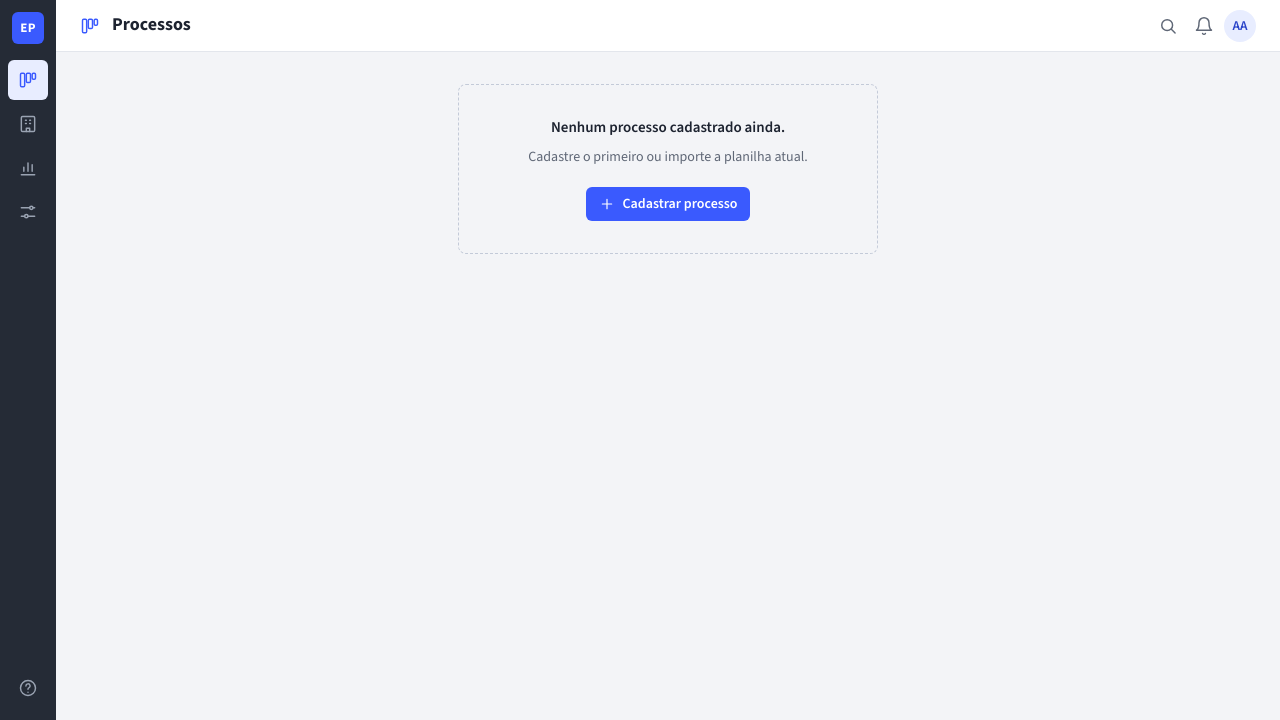
Test: antes da primeira tentativa, diz "Nenhuma atualização ainda."
The image size is (1280, 720).
Click the button named "Administração": click(28, 212) x1=8 y1=192 x2=48 y2=232
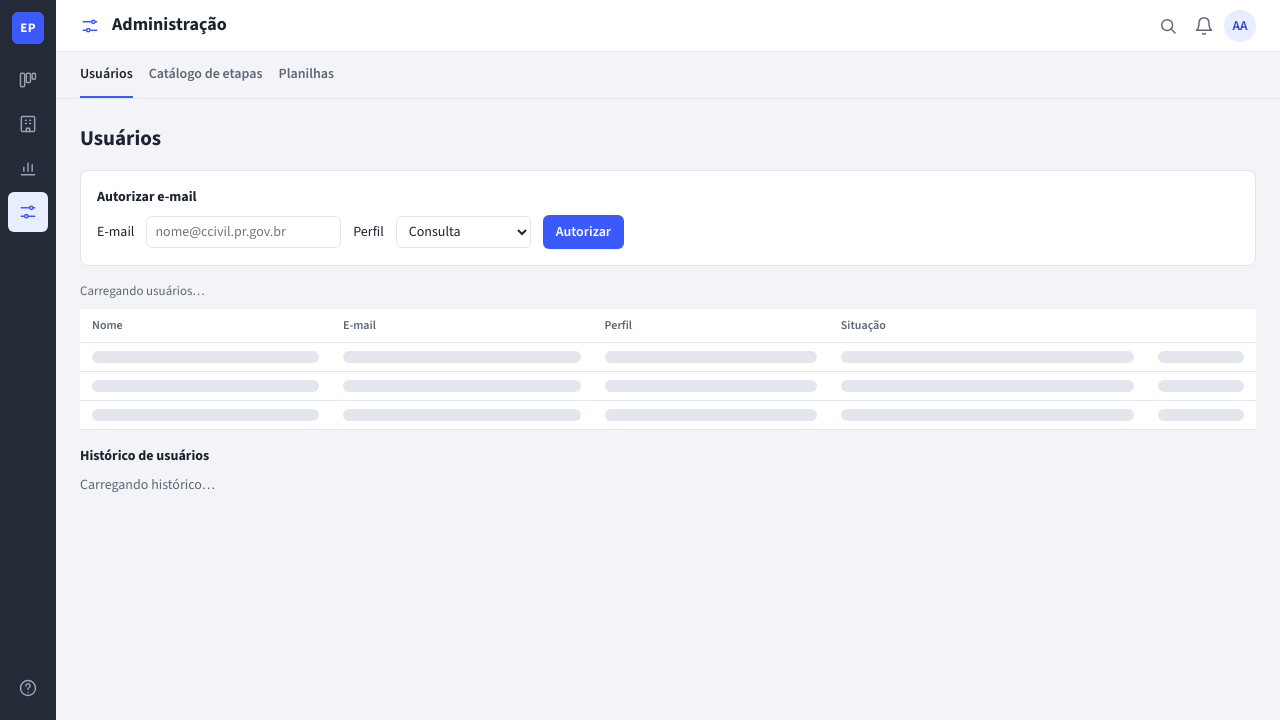
Click the tab "Planilhas": click(306, 75) x1=278 y1=52 x2=334 y2=98
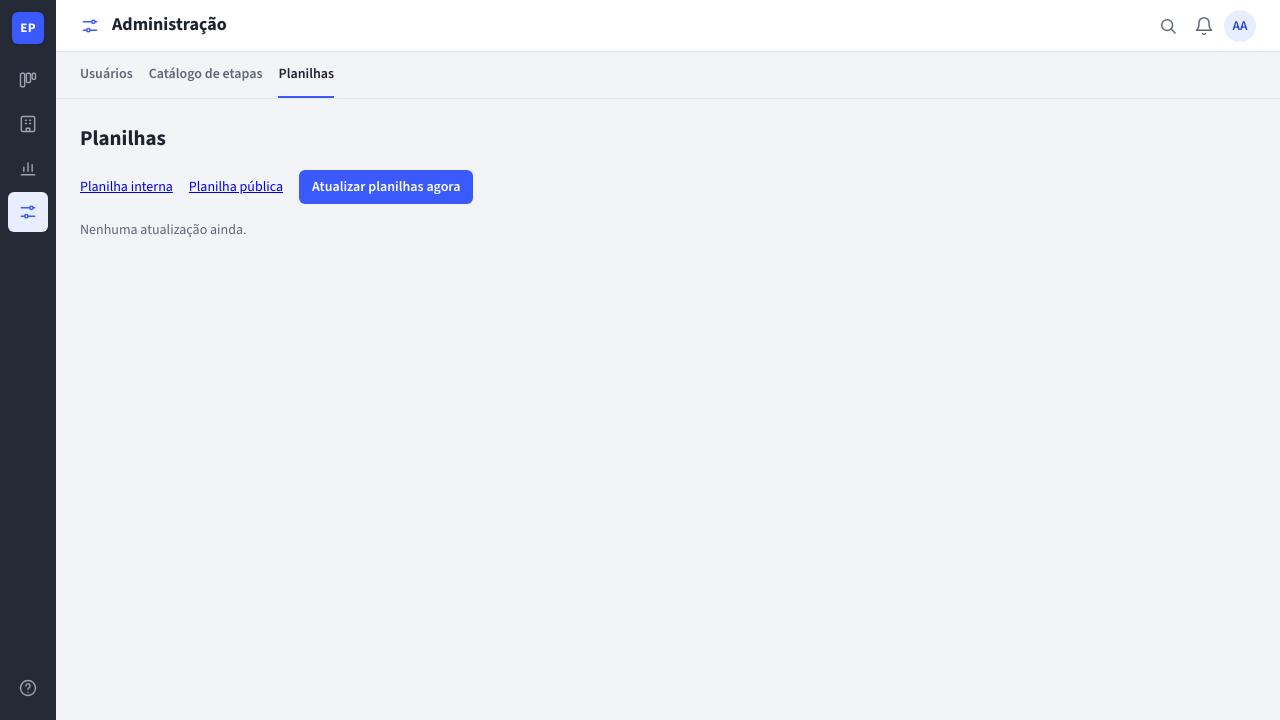
expect the heading "Planilhas" is shown: met, box x1=80 y1=123 x2=166 y2=153
expect the text "Nenhuma atualização ainda." is shown: met, box x1=80 y1=220 x2=246 y2=240
